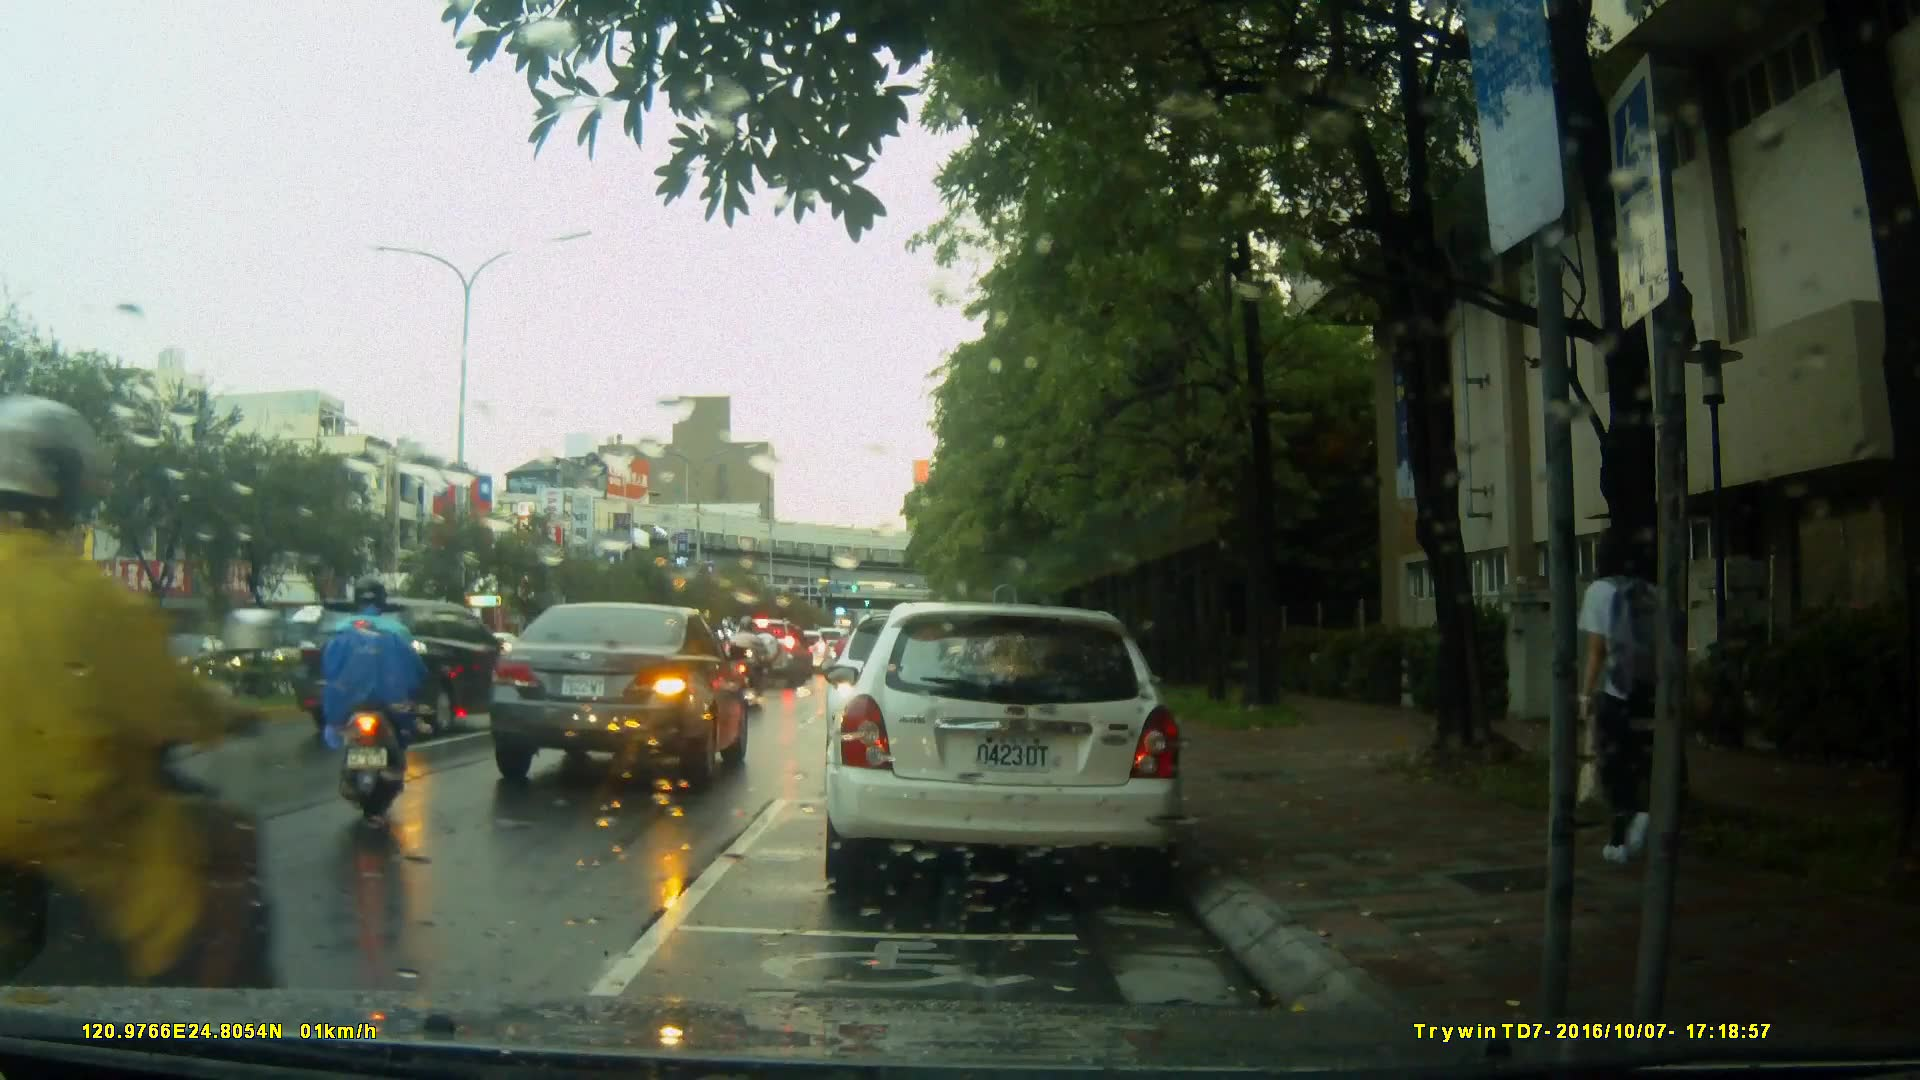pedestrian: (1548, 517, 1675, 872)
rider: (1, 402, 287, 1063), (331, 577, 431, 823), (730, 617, 766, 702)
vehicle: (1, 543, 276, 985), (820, 602, 1188, 898), (488, 601, 753, 788), (298, 596, 522, 740), (732, 619, 813, 690), (134, 634, 239, 689)
